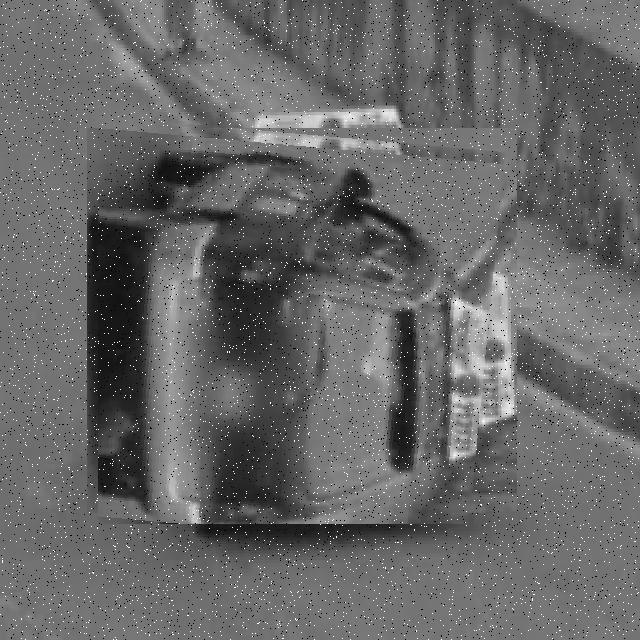car: (99, 118, 506, 526)
